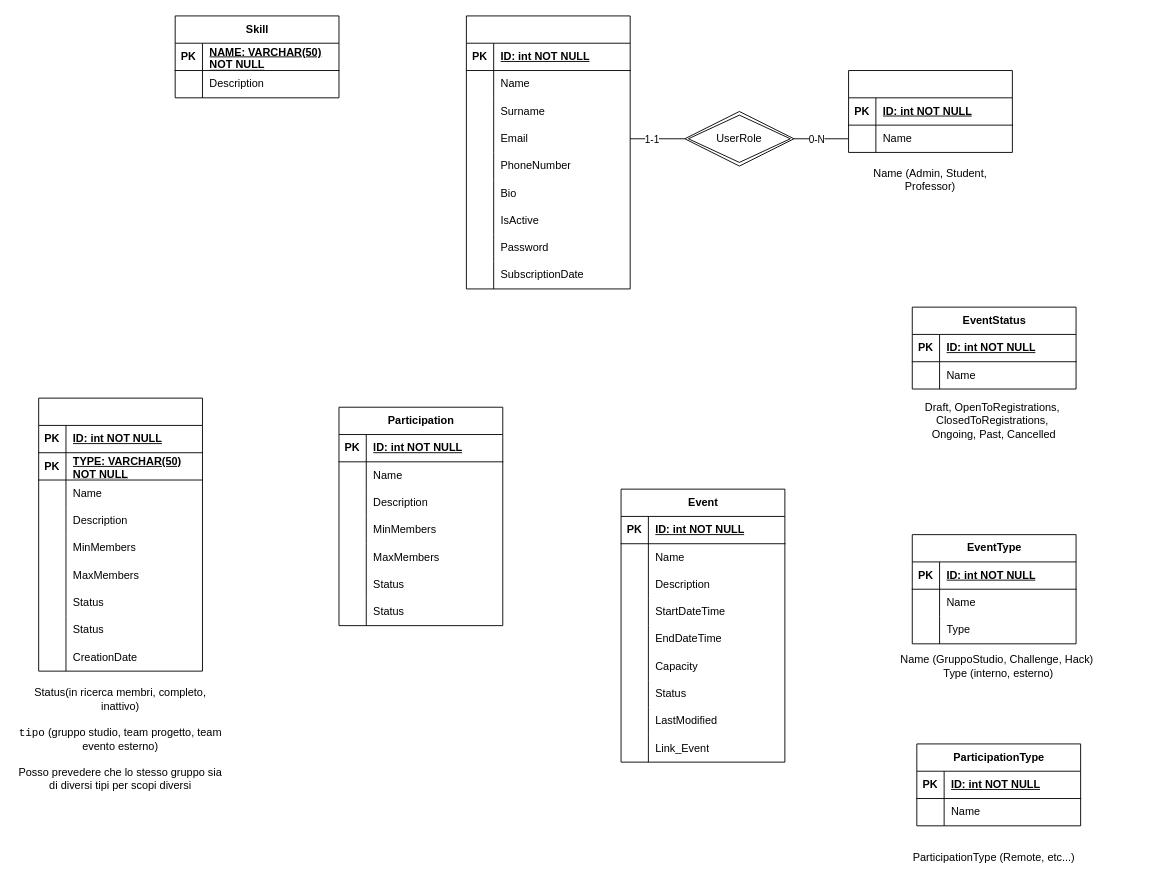
Image size: 1173x887. Some labels were removed from this diagram. Here are the shapes that lost their labels. From the top down, the box of each, then its label:
(848, 70, 1012, 152): Role
(465, 15, 630, 289): Member
(38, 397, 202, 671): Group
